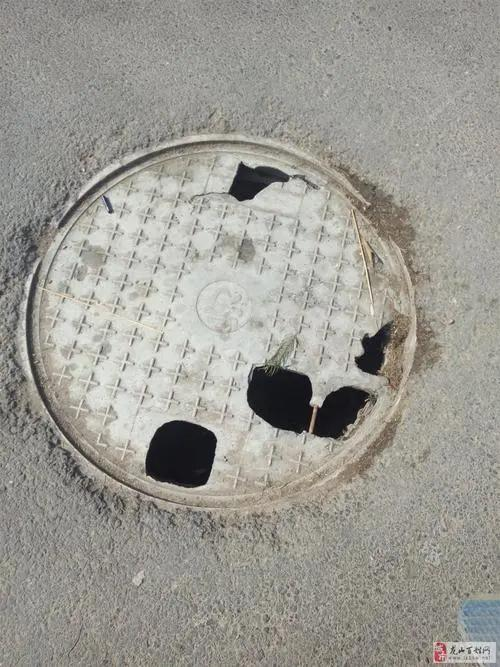wellcover: (0, 120, 446, 535)
